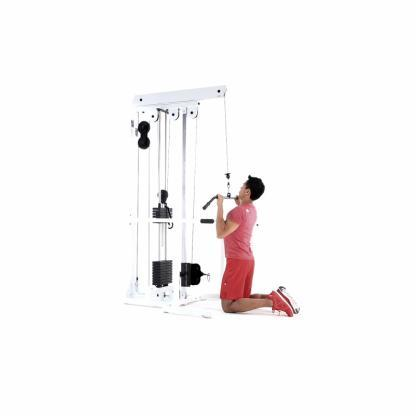Lat Pull Down: (122, 76, 304, 322)
